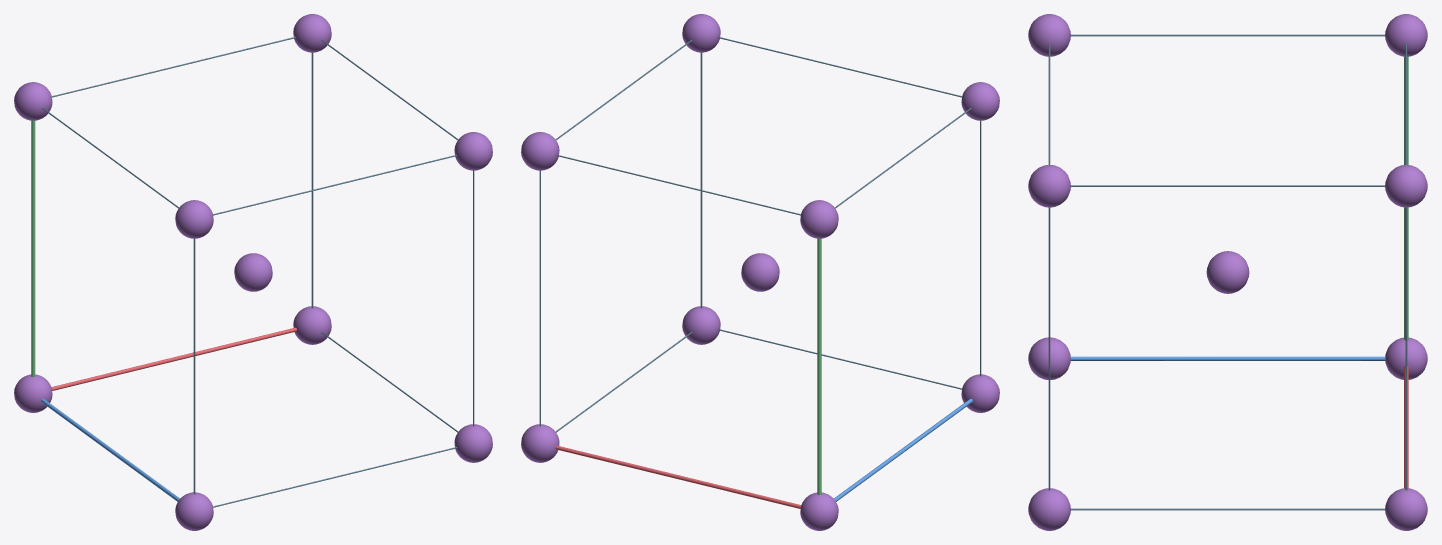
File: nguyen-to-k.glb
3 views of the same model, side by side, from view 1: azimuth 30°, elevation 25°; view 2: azimuth 150°, elevation 25°; view 3: azimuth 270°, elevation 25° (orthographic). The views are drawn at different scales.
Visible parts, largest first — view 1: K · K · 1 (×9), Ô mạng và các trục a, b, c; view 2: K · K · 1 (×9), Ô mạng và các trục a, b, c; view 3: K · K · 1 (×9), Ô mạng và các trục a, b, c.
Part boxes in pixels (x1=…): K · K · 1 (×9): x1=14, y1=14, x2=492, y2=530; Ô mạng và các trục a, b, c: x1=31, y1=36, x2=474, y2=507; K · K · 1 (×9): x1=521, y1=14, x2=999, y2=530; Ô mạng và các trục a, b, c: x1=539, y1=36, x2=981, y2=508; K · K · 1 (×9): x1=1028, y1=14, x2=1427, y2=530; Ô mạng và các trục a, b, c: x1=1048, y1=34, x2=1408, y2=510.
Size of the model in its own units: 5.97 by 5.97 by 5.97.
